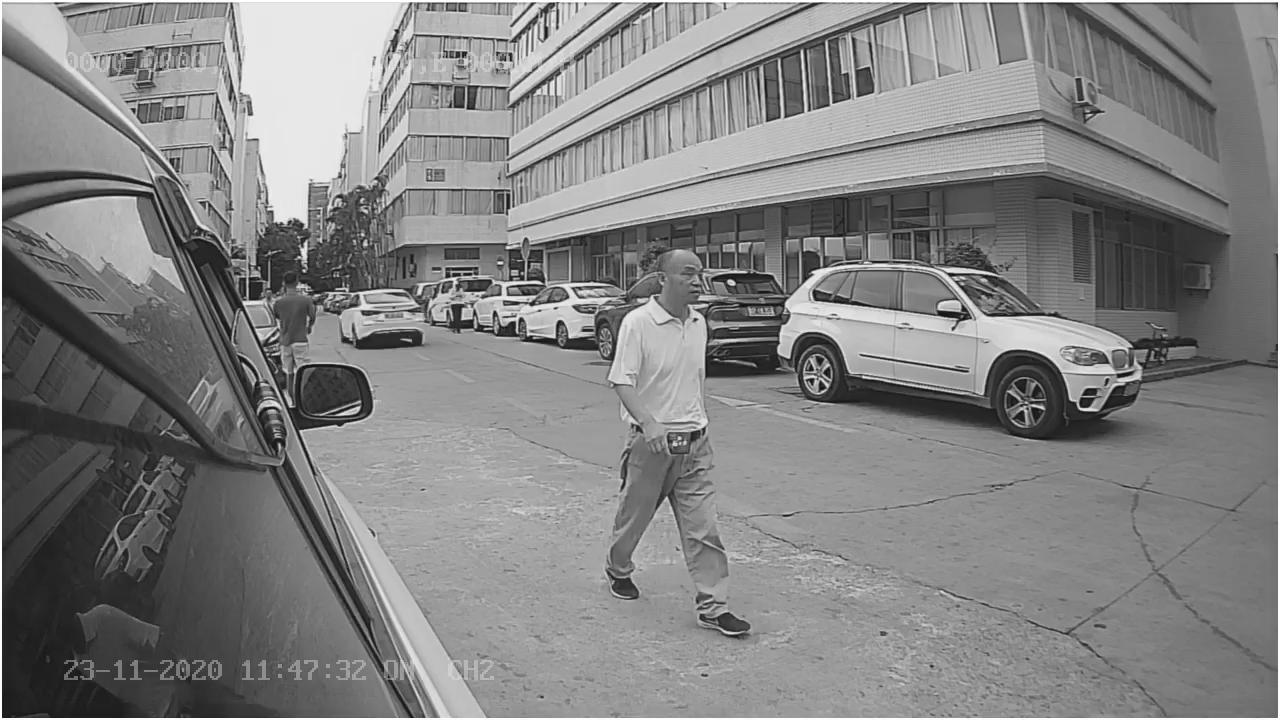person: (600, 237, 744, 639)
